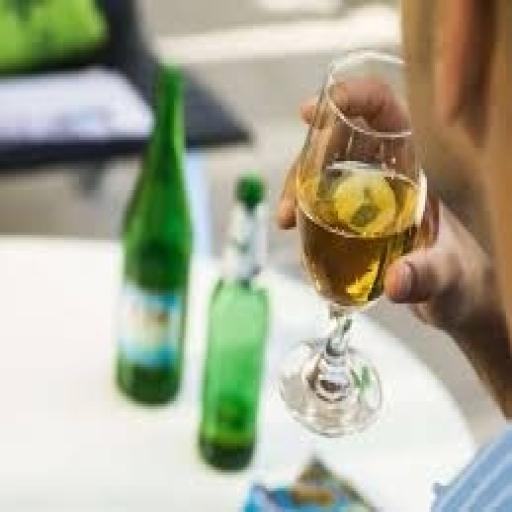drinking: (277, 50, 429, 436)
